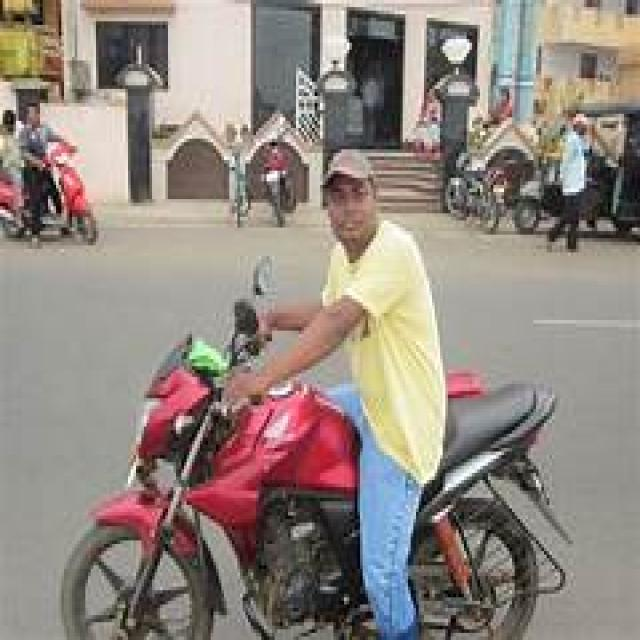Two Wheeler: (61, 300, 374, 638), (411, 370, 570, 638)
